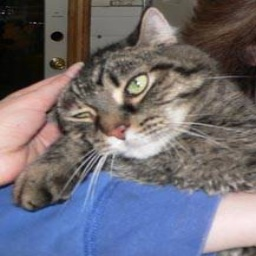cat: (9, 8, 256, 220)
